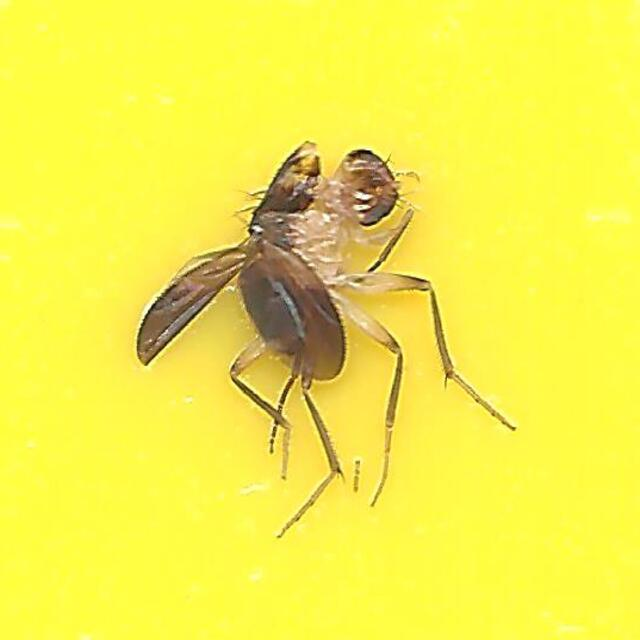Brachycera: (119, 133, 521, 507)
